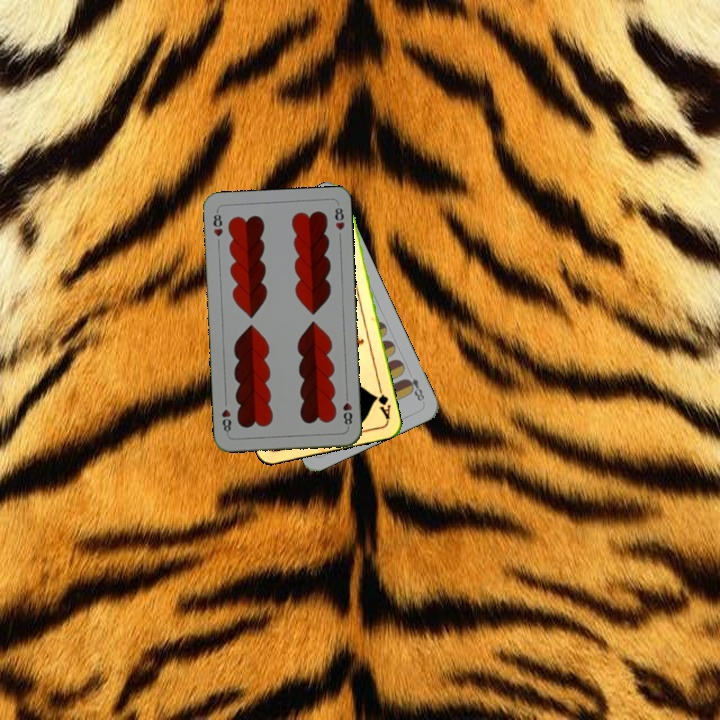E8: (401, 374, 427, 404)
GA: (370, 382, 393, 422)
H8: (339, 390, 355, 430), (209, 207, 225, 239)
